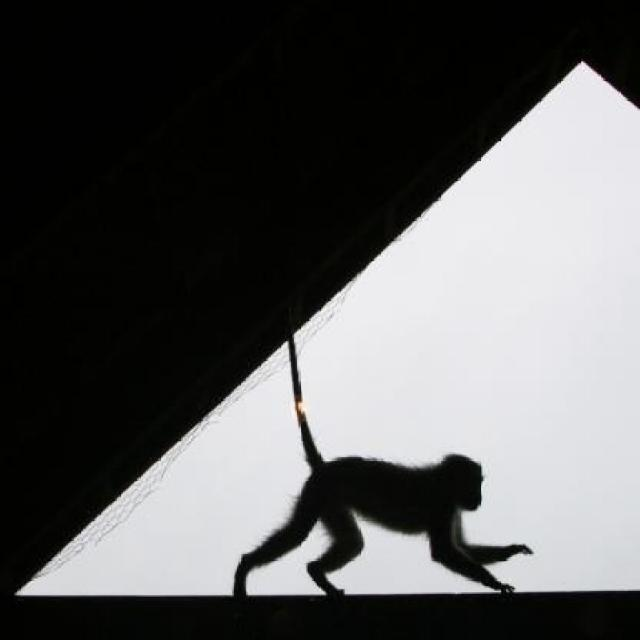Monkey: (226, 388, 525, 606)
